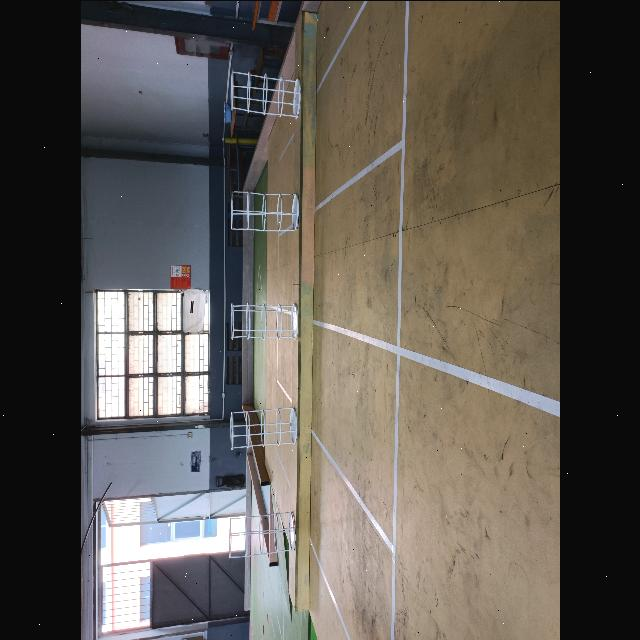S: (230, 70, 300, 120), (226, 509, 296, 558), (228, 188, 298, 232), (228, 406, 298, 448), (229, 300, 299, 340)
